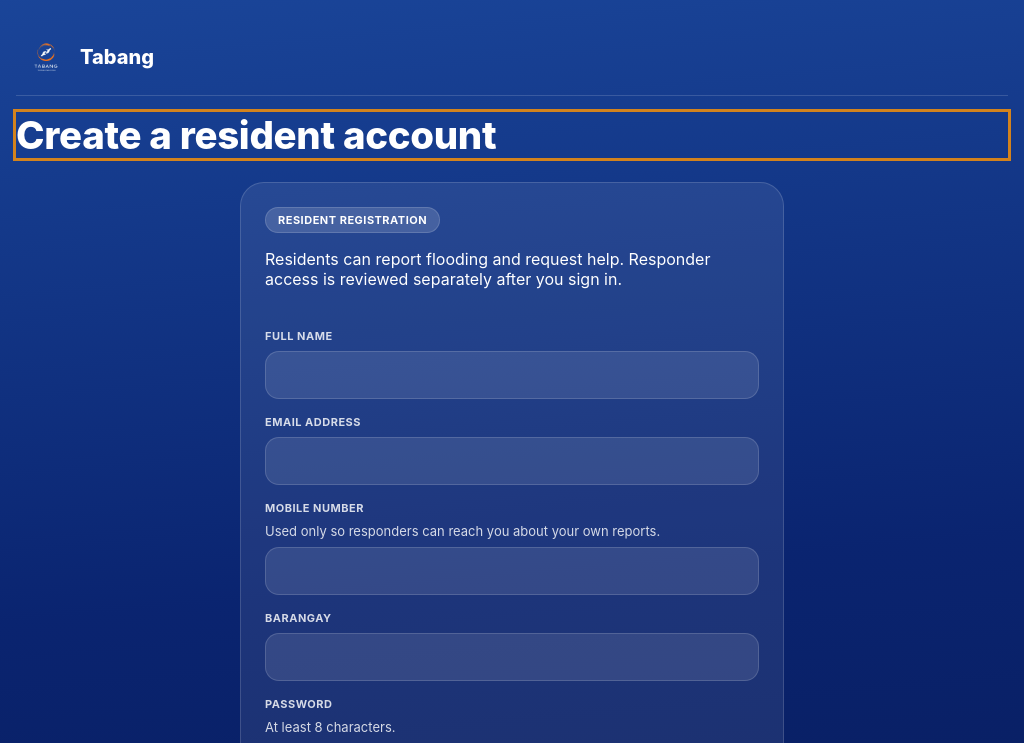
authentication forms › rejects a mismatched password confirmation
The image size is (1024, 743).
Type "Ana Cruz" into the field labelled "Full name" at (512, 375), box [265, 351, 759, 399]
Type "ana@example.test" into the field labelled "Email address" at (512, 461), box [265, 437, 759, 485]
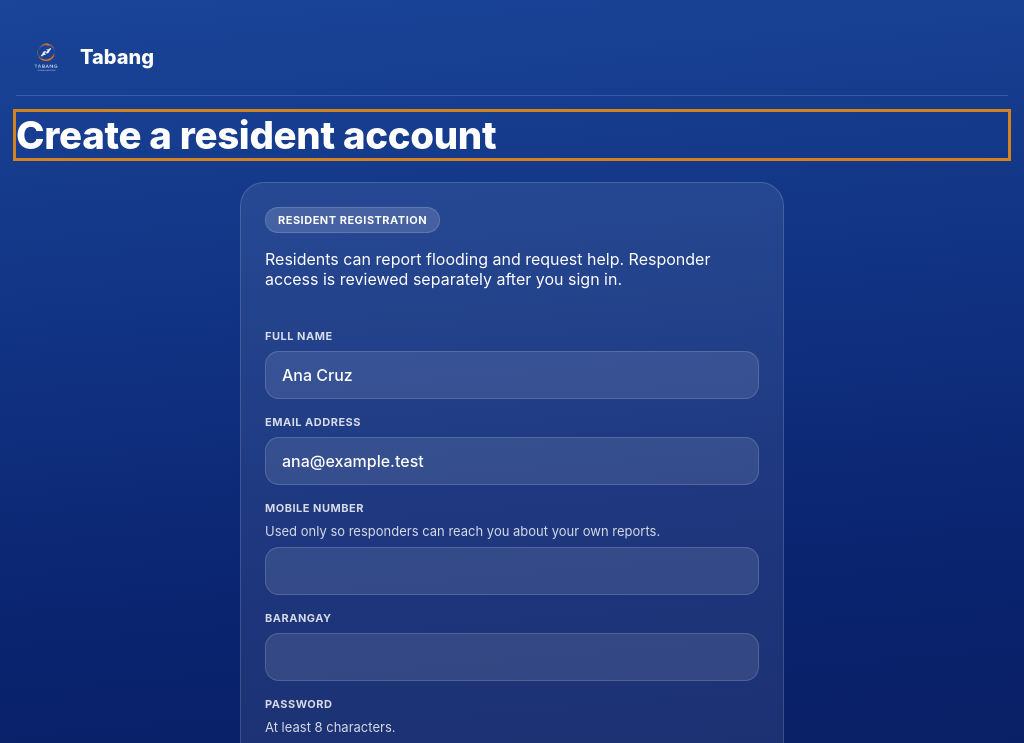
Type "09171234567" into the field labelled "Mobile number" at (512, 571), box [265, 547, 759, 595]
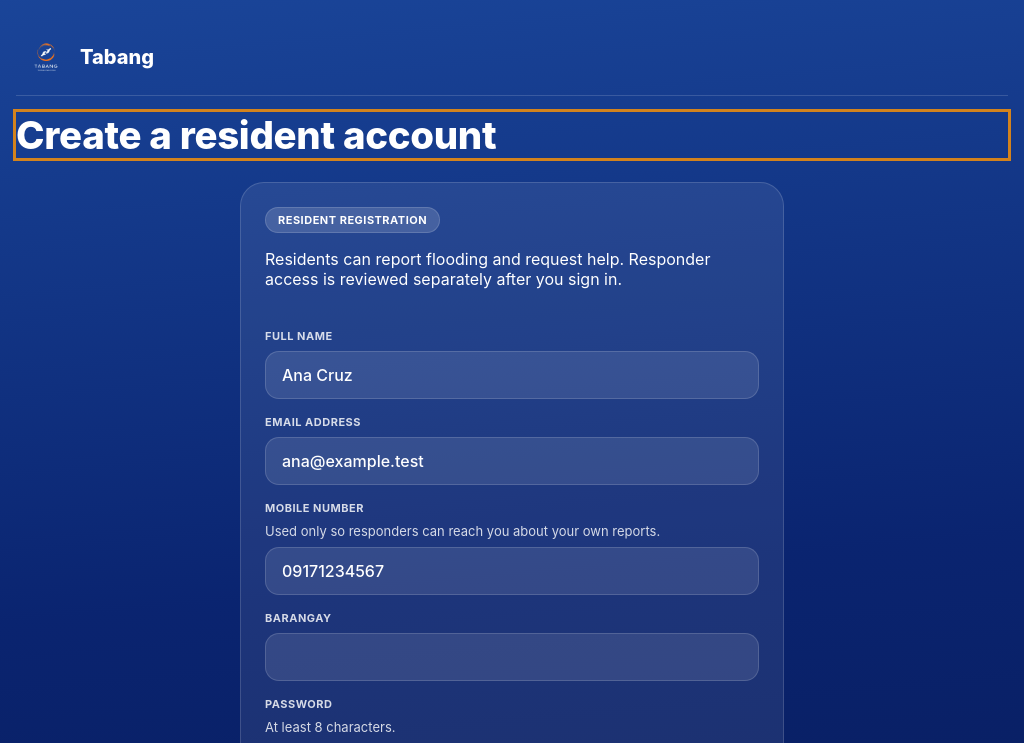
Type "Poblacion" into the field labelled "Barangay" at (512, 657), box [265, 633, 759, 681]
(page scrolled)
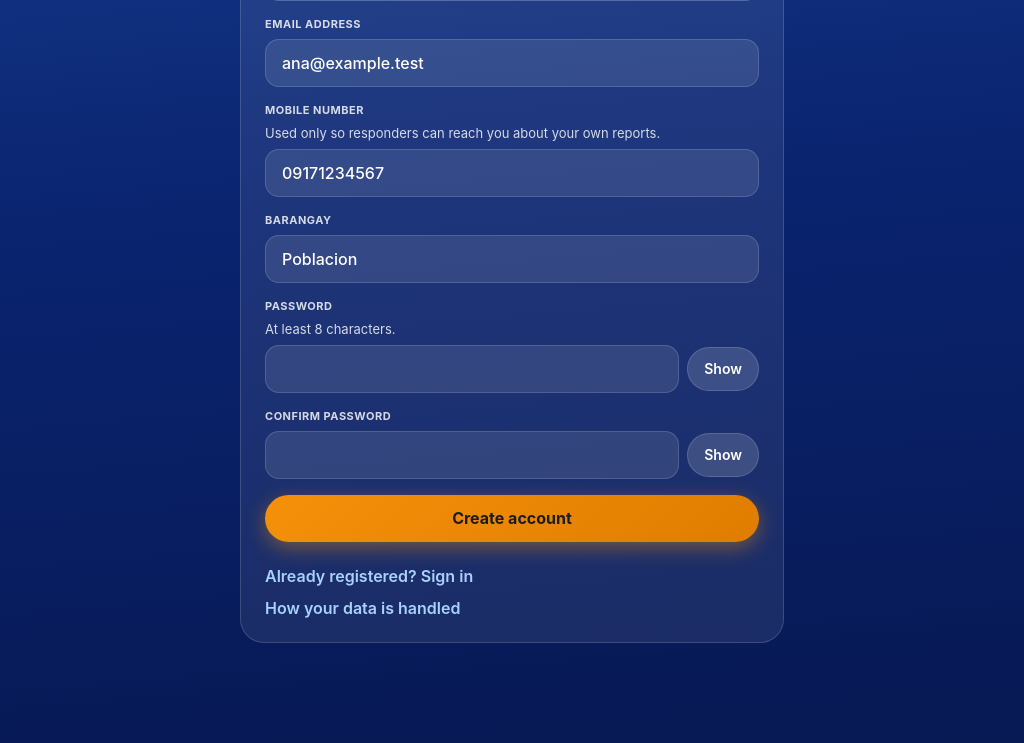
Type "flood-ready-2026" into the password field labelled "Password" at (472, 369), box [265, 345, 679, 393]
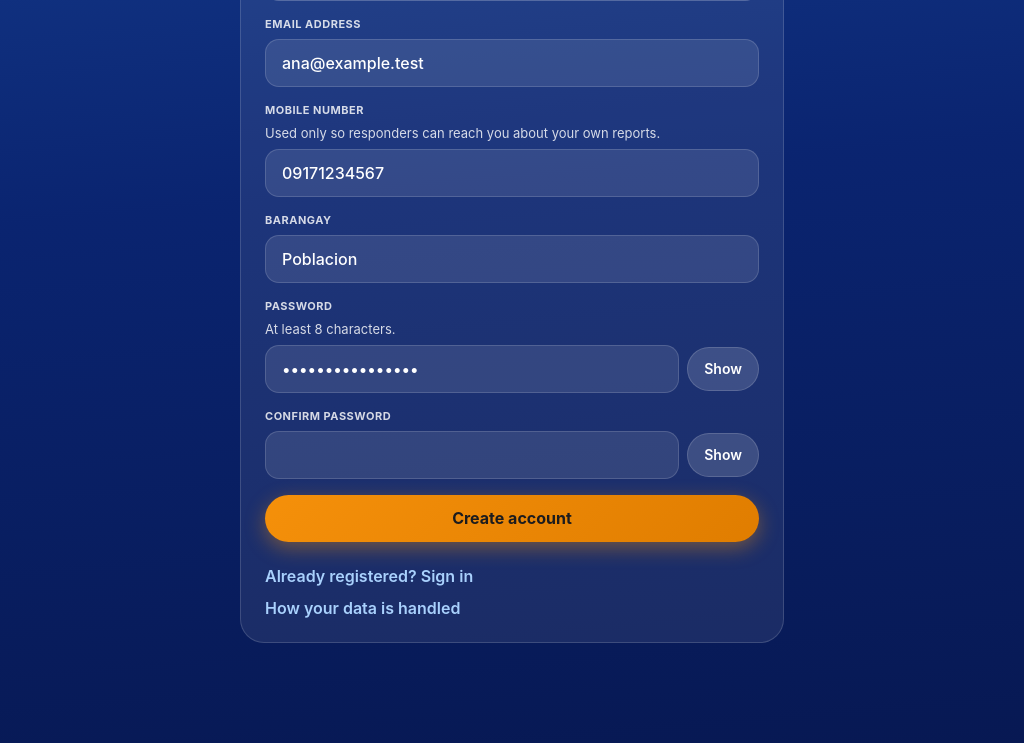
Type "flood-ready-2025" into the password field labelled "Confirm password" at (472, 455), box [265, 431, 679, 479]
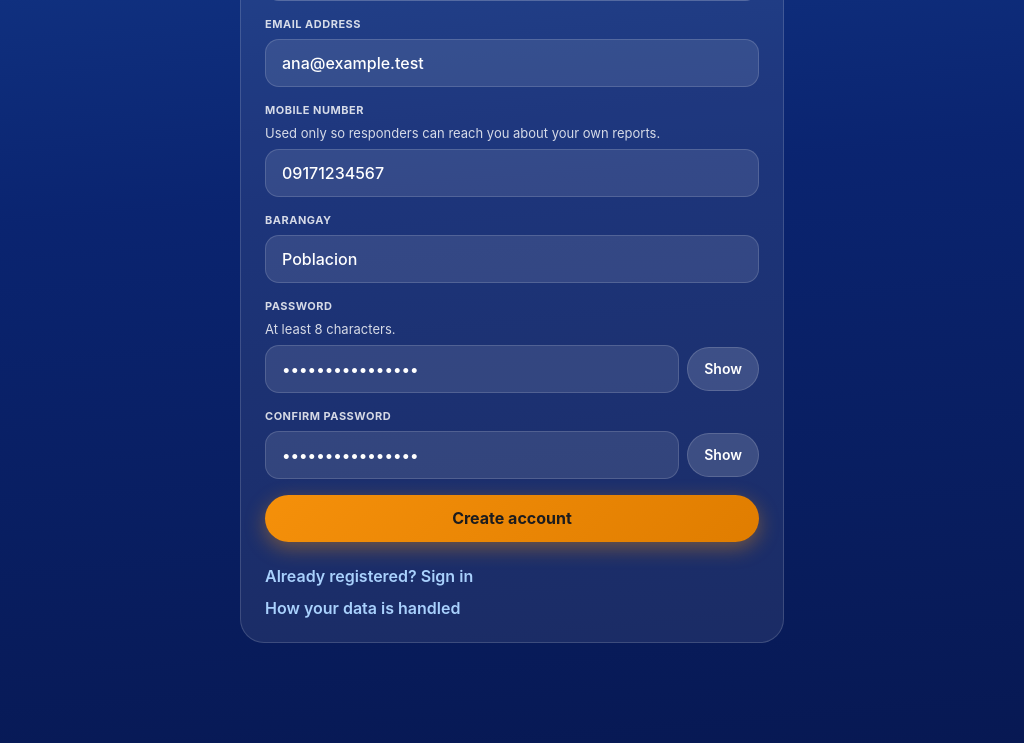
Click the button "Create account" at (512, 518), box [265, 495, 759, 542]
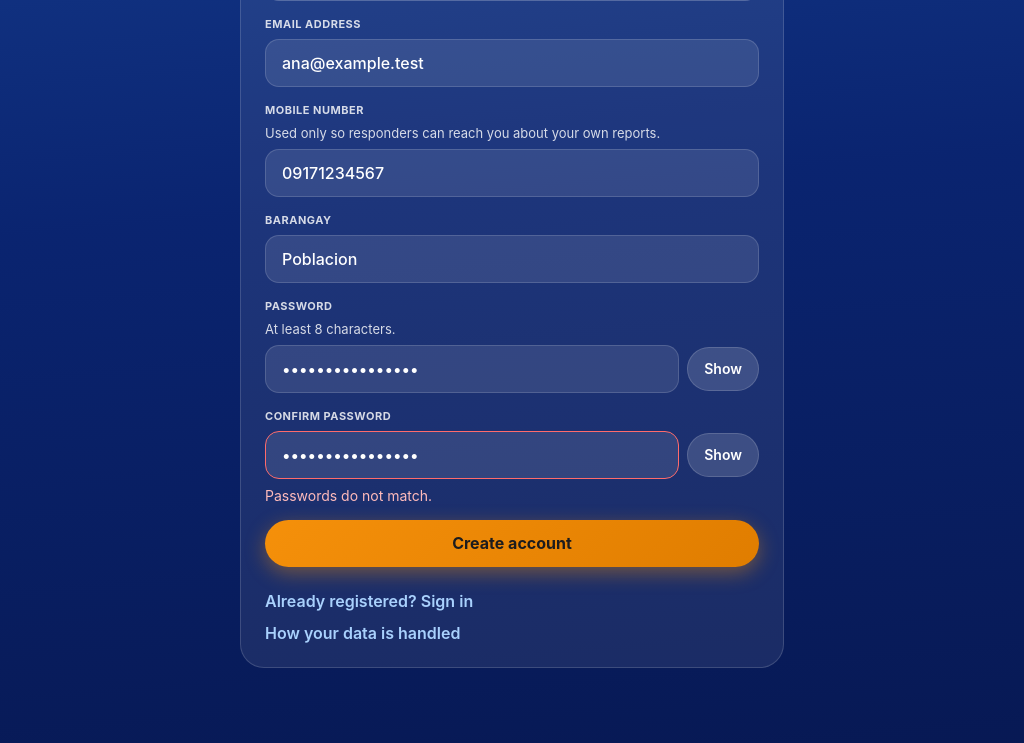
Check: the text "Passwords do not match." is shown, box [265, 487, 432, 504]
